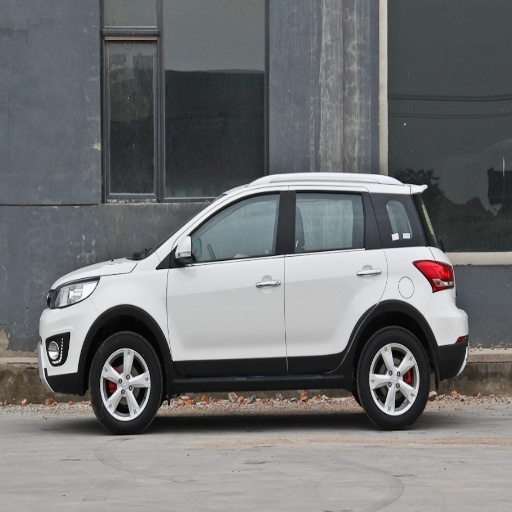back_left_door: (287, 188, 386, 371)
front_left_door: (166, 186, 287, 375)
